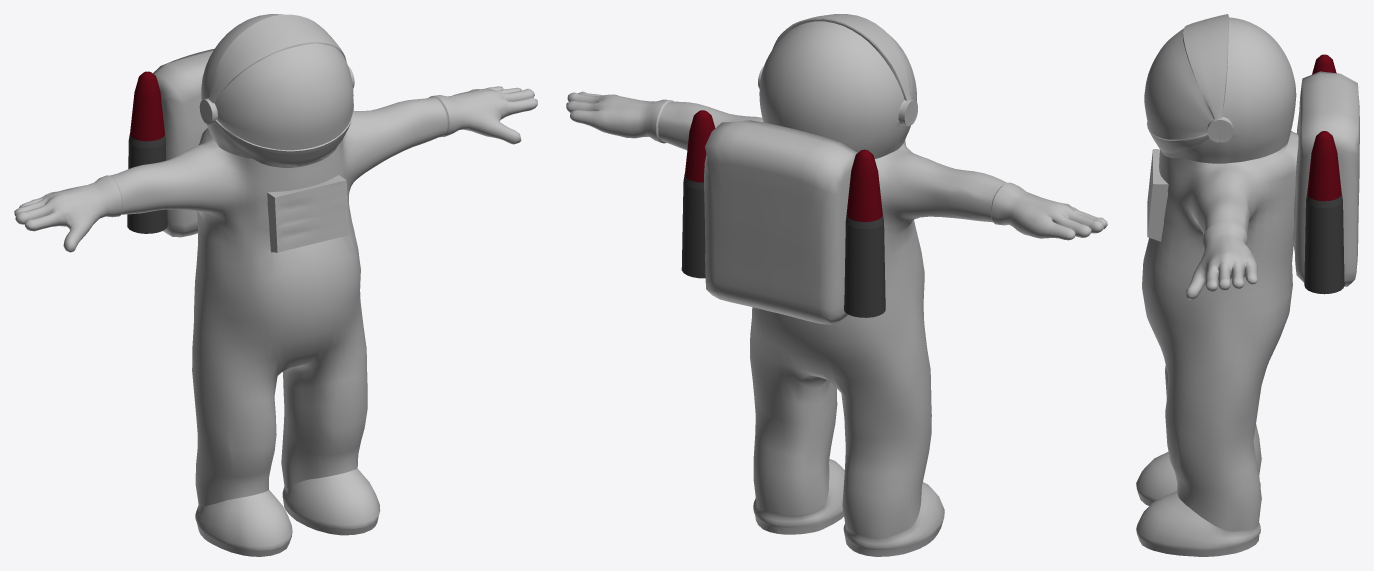
Rendered from JetpackAstr0.fbx.
3 renders of one model, left to right at view 1: azimuth 30°, elevation 25°; view 2: azimuth 150°, elevation 25°; view 3: azimuth 270°, elevation 25°, orthographic. The views are drawn at different scales.
Parts seen in each view (by area): view 1: Astr01LowPoly2, Astr01LowPoly7, Astr01LowPoly6, Astr01LowPoly1, Astr01LowPoly5, Astr01LowPoly3, Astr01LowPoly4, TurbineThrusters3; view 2: Astr01LowPoly2, Astr01LowPoly3, Astr01LowPoly1, TurbineThrusters3, Astr01LowPoly5, Astr01LowPoly6; view 3: Astr01LowPoly2, Astr01LowPoly1, Astr01LowPoly3, Astr01LowPoly6, TurbineThrusters3, Astr01LowPoly7, Astr01LowPoly5, Astr01LowPoly4.
Boxes of the visible parts, x1,y1,x2,y2 form: Astr01LowPoly2: (109,97,447,507); Astr01LowPoly7: (214,43,353,150); Astr01LowPoly6: (195,468,380,556); Astr01LowPoly1: (199,14,354,167); Astr01LowPoly5: (14,86,537,252); Astr01LowPoly3: (153,48,214,237); Astr01LowPoly4: (267,175,349,252); TurbineThrusters3: (127,71,167,233); Astr01LowPoly2: (658,101,1007,537); Astr01LowPoly3: (704,120,857,324); Astr01LowPoly1: (758,14,917,158); TurbineThrusters3: (681,110,885,317); Astr01LowPoly5: (566,91,1107,240); Astr01LowPoly6: (753,459,944,556); Astr01LowPoly2: (1142,131,1298,531); Astr01LowPoly1: (1147,14,1296,163); Astr01LowPoly3: (1292,71,1359,286); Astr01LowPoly6: (1136,451,1260,556); TurbineThrusters3: (1304,54,1344,294); Astr01LowPoly7: (1144,28,1213,139); Astr01LowPoly5: (1185,221,1257,299); Astr01LowPoly4: (1147,149,1168,241).
Size of the model in its own units: 7.93 by 7.28 by 2.96.
